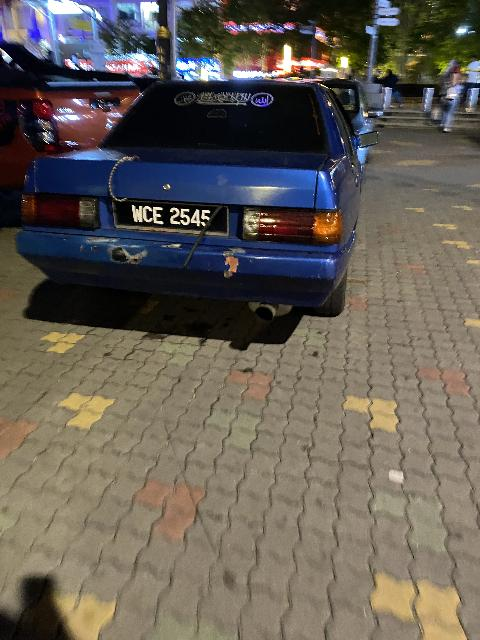License_Plate: (110, 198, 230, 242)
car: (16, 70, 366, 333)
